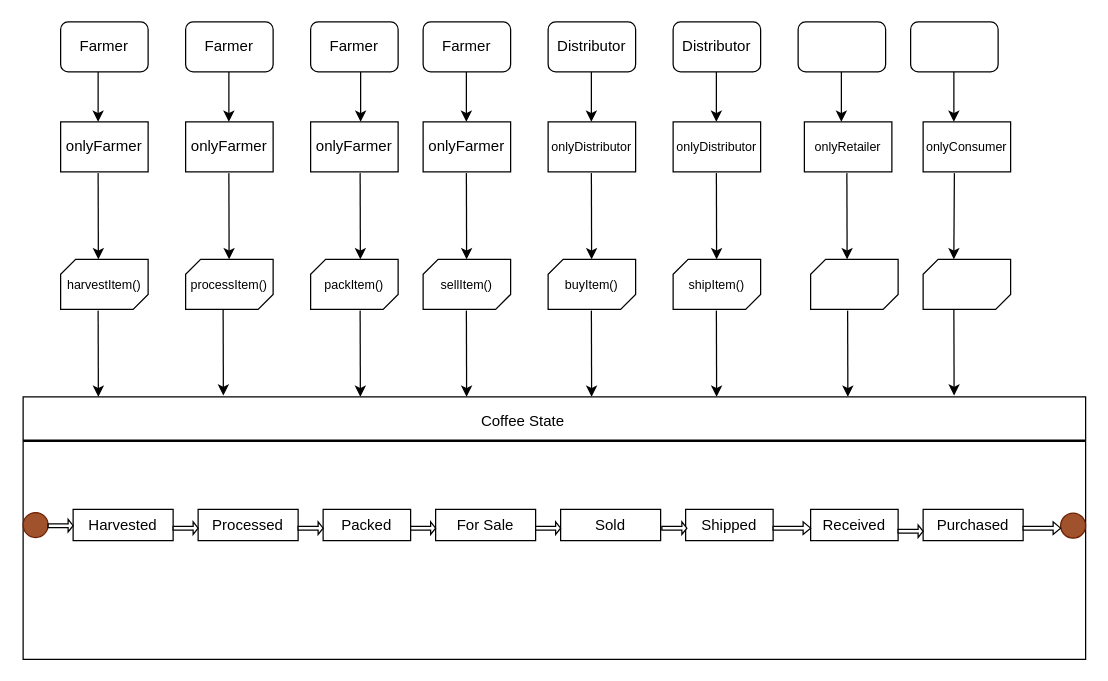
Image size: 1108x681. Some labels were removed from this diagram. Each missing label, with the box of its shape:
Consumer: (909, 21, 998, 72)
purchaseItem(): (922, 258, 1011, 309)
receiveItem(): (809, 258, 898, 309)
Retailer: (797, 21, 886, 72)
